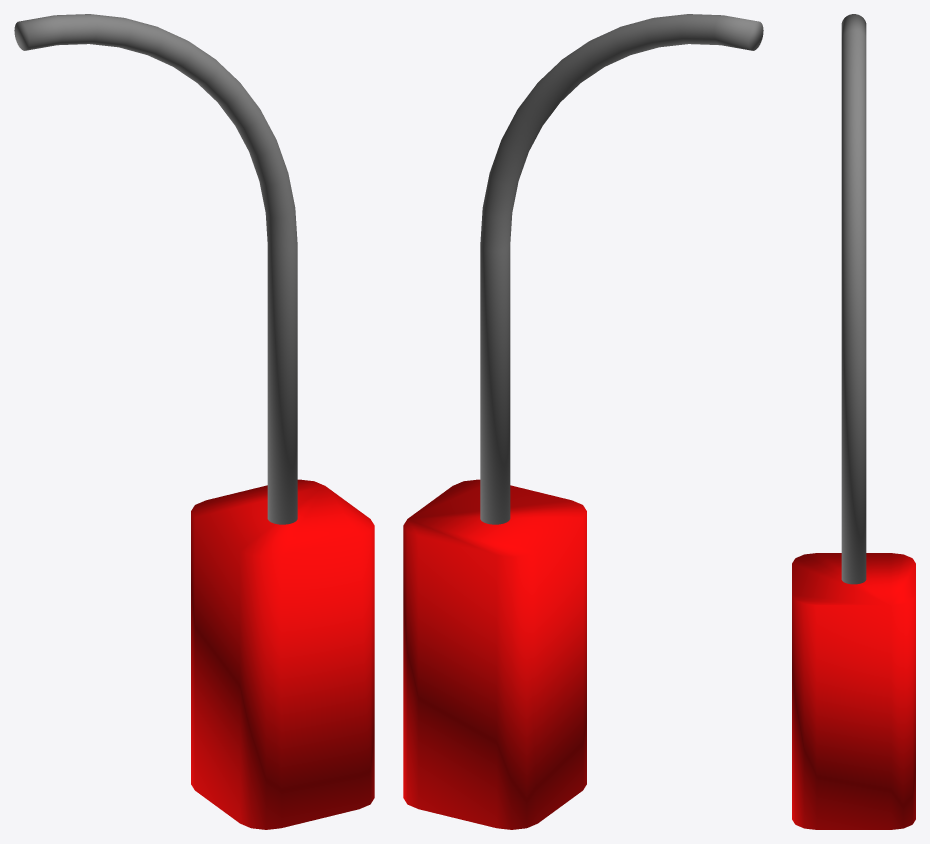
The model's file is Twister.fbx.
The picture shows the model from 3 angles, left to right: view 1: azimuth 30°, elevation 25°; view 2: azimuth 150°, elevation 25°; view 3: azimuth 270°, elevation 25°; orthographic projection. The views are drawn at different scales.
Parts seen in each view (by area): view 1: Bumper, Suspender; view 2: Bumper, Suspender; view 3: Bumper, Suspender.
Boxes of the visible parts, x1=… form: Bumper: x1=191, y1=479, x2=374, y2=829; Suspender: x1=14, y1=14, x2=297, y2=524; Bumper: x1=403, y1=479, x2=586, y2=829; Suspender: x1=480, y1=14, x2=763, y2=524; Bumper: x1=792, y1=553, x2=915, y2=829; Suspender: x1=841, y1=14, x2=866, y2=584.
Bounding box in the file's own units: 125 × 305 × 50.
